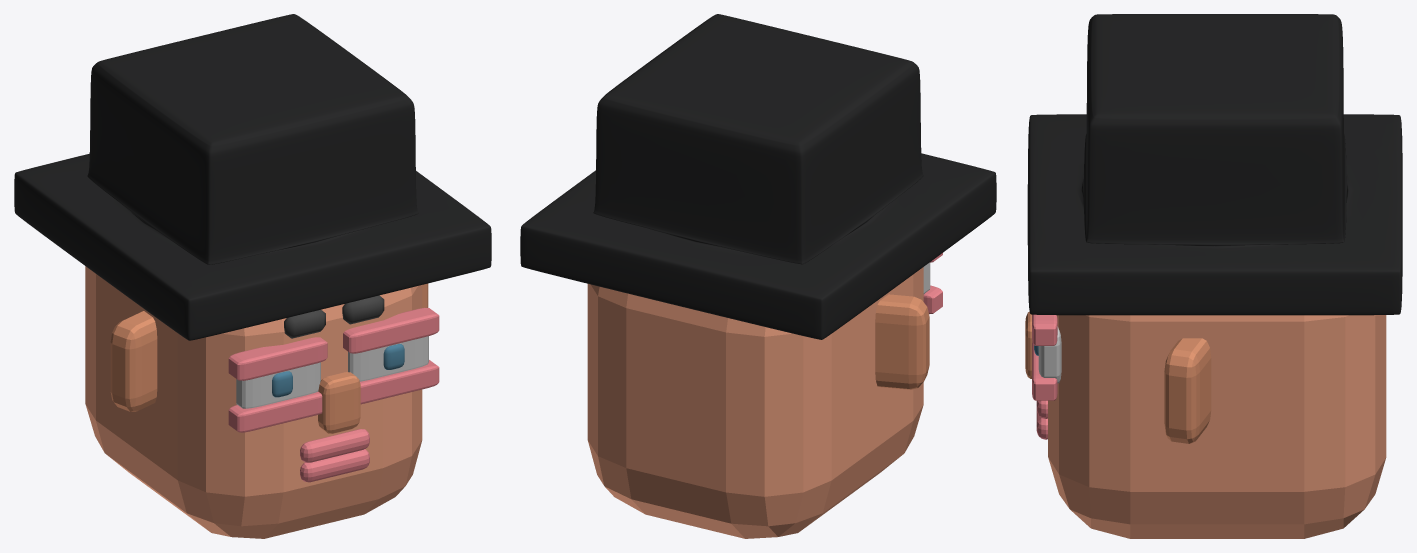
Rendered from robot.glb.
3 renders of one model, left to right at view 1: azimuth 30°, elevation 25°; view 2: azimuth 150°, elevation 25°; view 3: azimuth 270°, elevation 25°, orthographic. The views are drawn at different scales.
Parts seen in each view (by area): view 1: robot_head.009; view 2: robot_head.009; view 3: robot_head.009.
Boxes of the visible parts, x1,y1,x2,y2 form: robot_head.009: (14,14,491,538); robot_head.009: (520,14,996,538); robot_head.009: (1025,14,1402,538).
Bounding box in the file's own units: 0.7921 × 1.01 × 0.7814.
